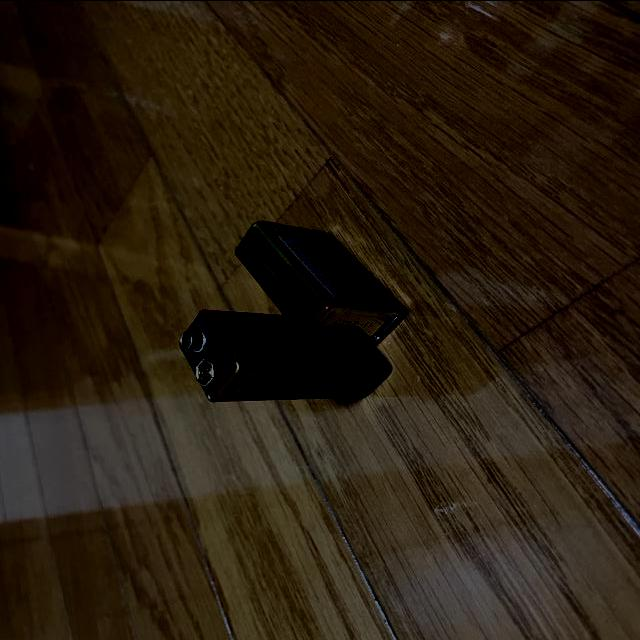9V: (236, 220, 408, 344), (179, 308, 394, 402)
